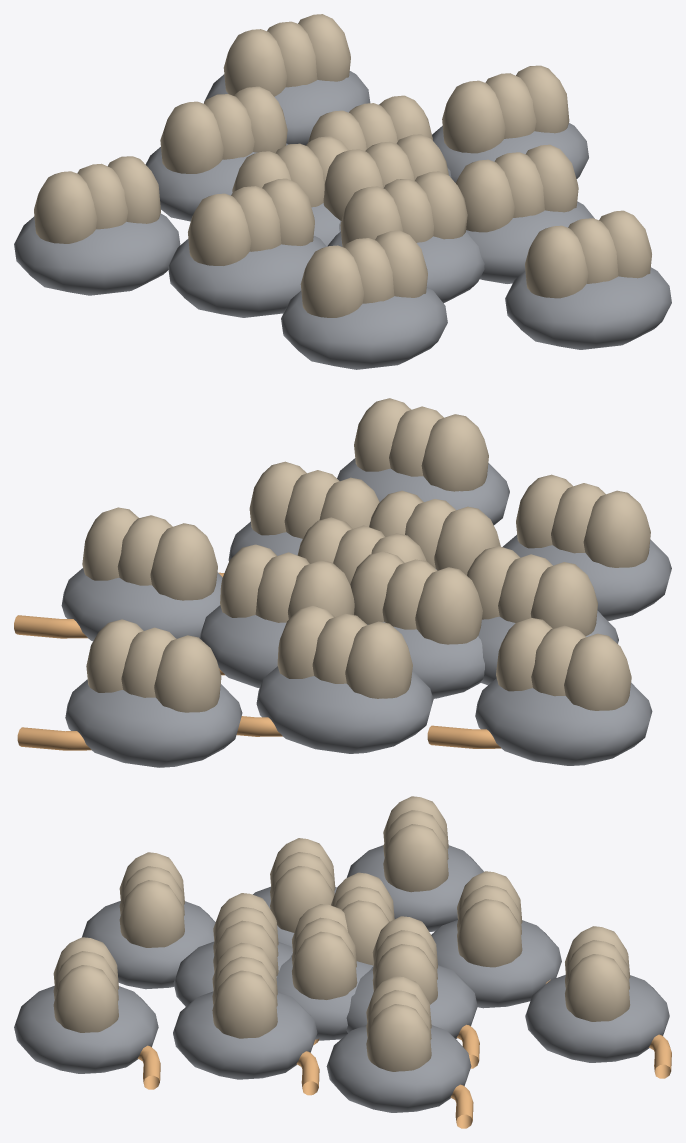
File: bio_acid_mat_11_far.glb
3 renders of one model, top to bottom at view 1: azimuth 30°, elevation 25°; view 2: azimuth 150°, elevation 25°; view 3: azimuth 270°, elevation 25°, orthographic. The views are drawn at different scales.
Visible parts, largest first — view 1: Microbial cushion.010, Microbial cushion.007, Microbial cushion.009, Reaction vesicle.027, Reaction vesicle.024, Reaction vesicle.021, Reaction vesicle.030, Reaction vesicle.012, Reaction vesicle.018, Microbial cushion.004, Reaction vesicle.033, Reaction vesicle.015 (+10 smaller); view 2: Microbial cushion.011, Microbial cushion.006, Microbial cushion.009, Reaction vesicle.024, Reaction vesicle.018, Reaction vesicle.027, Reaction vesicle.033, Reaction vesicle.030, Reaction vesicle.021, Reaction vesicle.003, Reaction vesicle.012, Reaction vesicle.009 (+14 smaller); view 3: Microbial cushion.010, Microbial cushion.008, Microbial cushion.011, Microbial cushion.005, Microbial cushion.006, Reaction vesicle.030, Reaction vesicle.021, Reaction vesicle.027, Reaction vesicle.024, Reaction vesicle.033, Reaction vesicle.015, Reaction vesicle.018 (+15 smaller).
Part boxes in pixels (x1,y1,x2,y2): Microbial cushion.010: (505, 267, 671, 349); Microbial cushion.007: (281, 287, 447, 369); Microbial cushion.009: (14, 213, 180, 295); Reaction vesicle.027: (34, 156, 160, 243); Reaction vesicle.024: (442, 65, 569, 153); Reaction vesicle.021: (300, 230, 427, 317); Reaction vesicle.030: (525, 210, 651, 298); Reaction vesicle.012: (188, 178, 314, 265); Reaction vesicle.018: (160, 86, 287, 173); Microbial cushion.004: (168, 236, 326, 317); Reaction vesicle.033: (223, 14, 350, 96); Reaction vesicle.015: (456, 144, 578, 232); Microbial cushion.011: (65, 679, 242, 767); Microbial cushion.006: (256, 666, 433, 753); Microbial cushion.009: (475, 678, 652, 765); Reaction vesicle.024: (82, 507, 217, 600); Reaction vesicle.018: (277, 606, 412, 698); Reaction vesicle.027: (496, 618, 631, 710); Reaction vesicle.033: (86, 619, 221, 712); Reaction vesicle.030: (354, 398, 488, 491); Reaction vesicle.021: (516, 474, 650, 567); Reaction vesicle.003: (350, 551, 482, 644); Reaction vesicle.012: (467, 546, 597, 636); Reaction vesicle.009: (220, 544, 354, 622); Microbial cushion.010: (14, 986, 158, 1073); Microbial cushion.008: (326, 1025, 471, 1112); Microbial cushion.011: (525, 974, 669, 1062); Microbial cushion.005: (173, 991, 317, 1079); Microbial cushion.006: (431, 920, 561, 1008); Reaction vesicle.030: (53, 937, 118, 1032); Reaction vesicle.021: (119, 852, 184, 947); Reaction vesicle.027: (383, 796, 448, 892); Reaction vesicle.024: (366, 976, 431, 1071); Reaction vesicle.033: (565, 926, 630, 1021); Reaction vesicle.015: (212, 942, 277, 1038); Reaction vesicle.018: (457, 871, 522, 967).
Bounding box in the file's own units: 1.83 × 0.3598 × 2.
